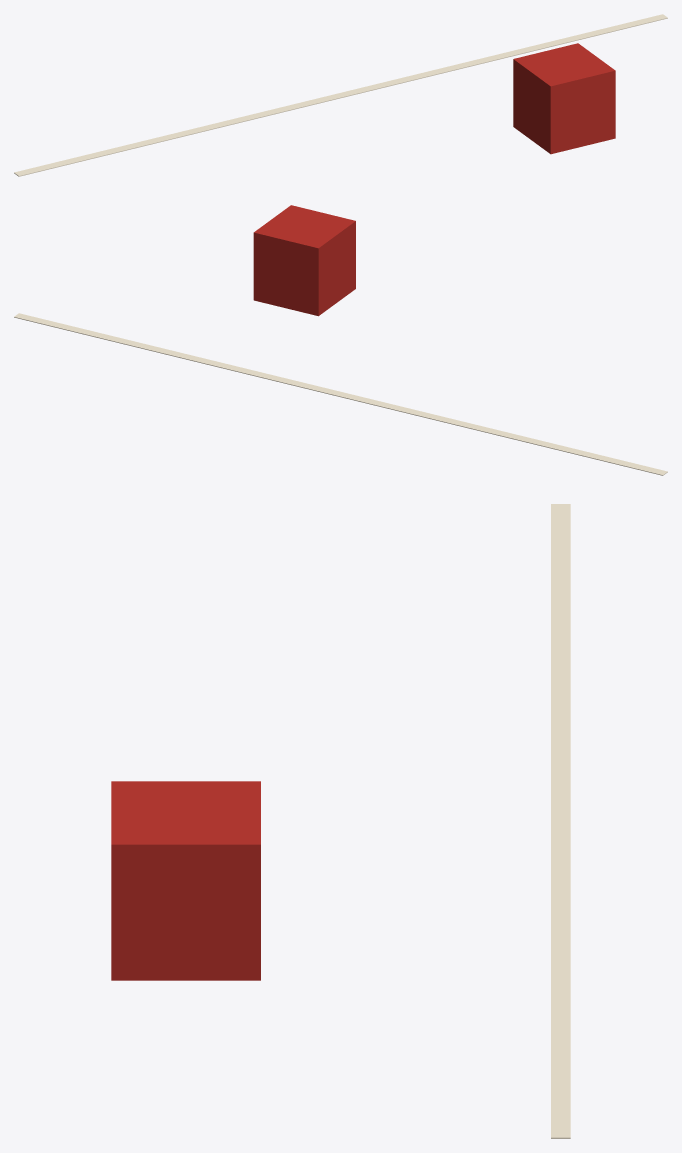
Rendered from gym_floor.glb.
3 views of the same model, one above another, from view 1: azimuth 30°, elevation 25°; view 2: azimuth 150°, elevation 25°; view 3: azimuth 270°, elevation 25° (orthographic). The views are drawn at different scales.
Parts seen in each view (by area): view 1: Box2, Box1; view 2: Box2, Box1; view 3: Box2, Box1.
Part boxes in pixels (<box>): Box2: <box>513,43,615,154</box>; Box1: <box>14,14,667,176</box>; Box2: <box>253,205,355,316</box>; Box1: <box>14,313,667,475</box>; Box2: <box>111,781,260,980</box>; Box1: <box>551,504,570,1138</box>.
Size of the model in its own units: 6 by 0.6 by 1.84.
